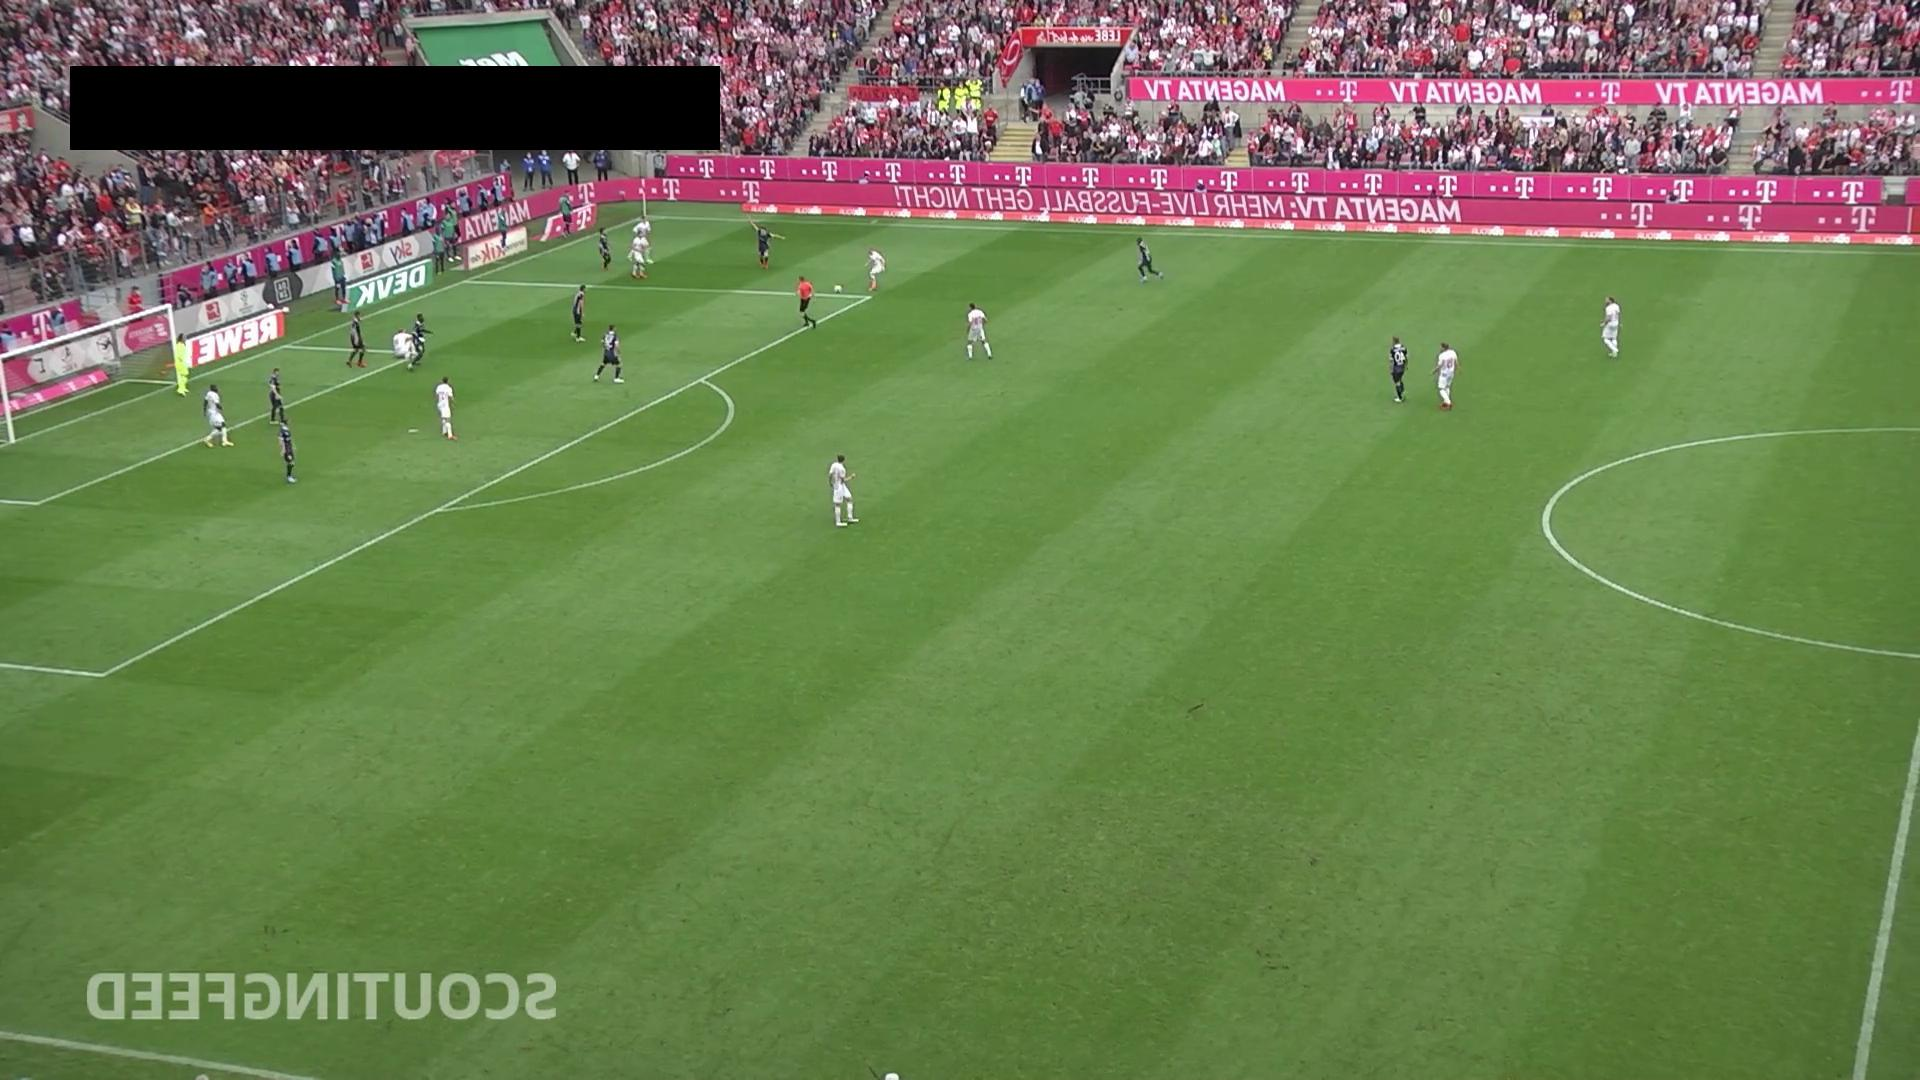ball: (833, 284, 842, 293)
goalkeeper: (173, 332, 191, 396)
player: (828, 453, 858, 527), (1430, 341, 1459, 410), (593, 323, 625, 384), (202, 383, 232, 448), (751, 220, 785, 270), (965, 301, 993, 360), (434, 375, 457, 440), (1388, 335, 1409, 403), (1600, 295, 1621, 358), (345, 309, 367, 368), (391, 328, 419, 374), (1136, 238, 1164, 283), (278, 420, 297, 484), (633, 216, 654, 269), (268, 366, 287, 424), (412, 312, 434, 361), (864, 246, 886, 292), (571, 284, 587, 342), (628, 235, 649, 278), (597, 229, 612, 270)
referee: (796, 274, 817, 329)
